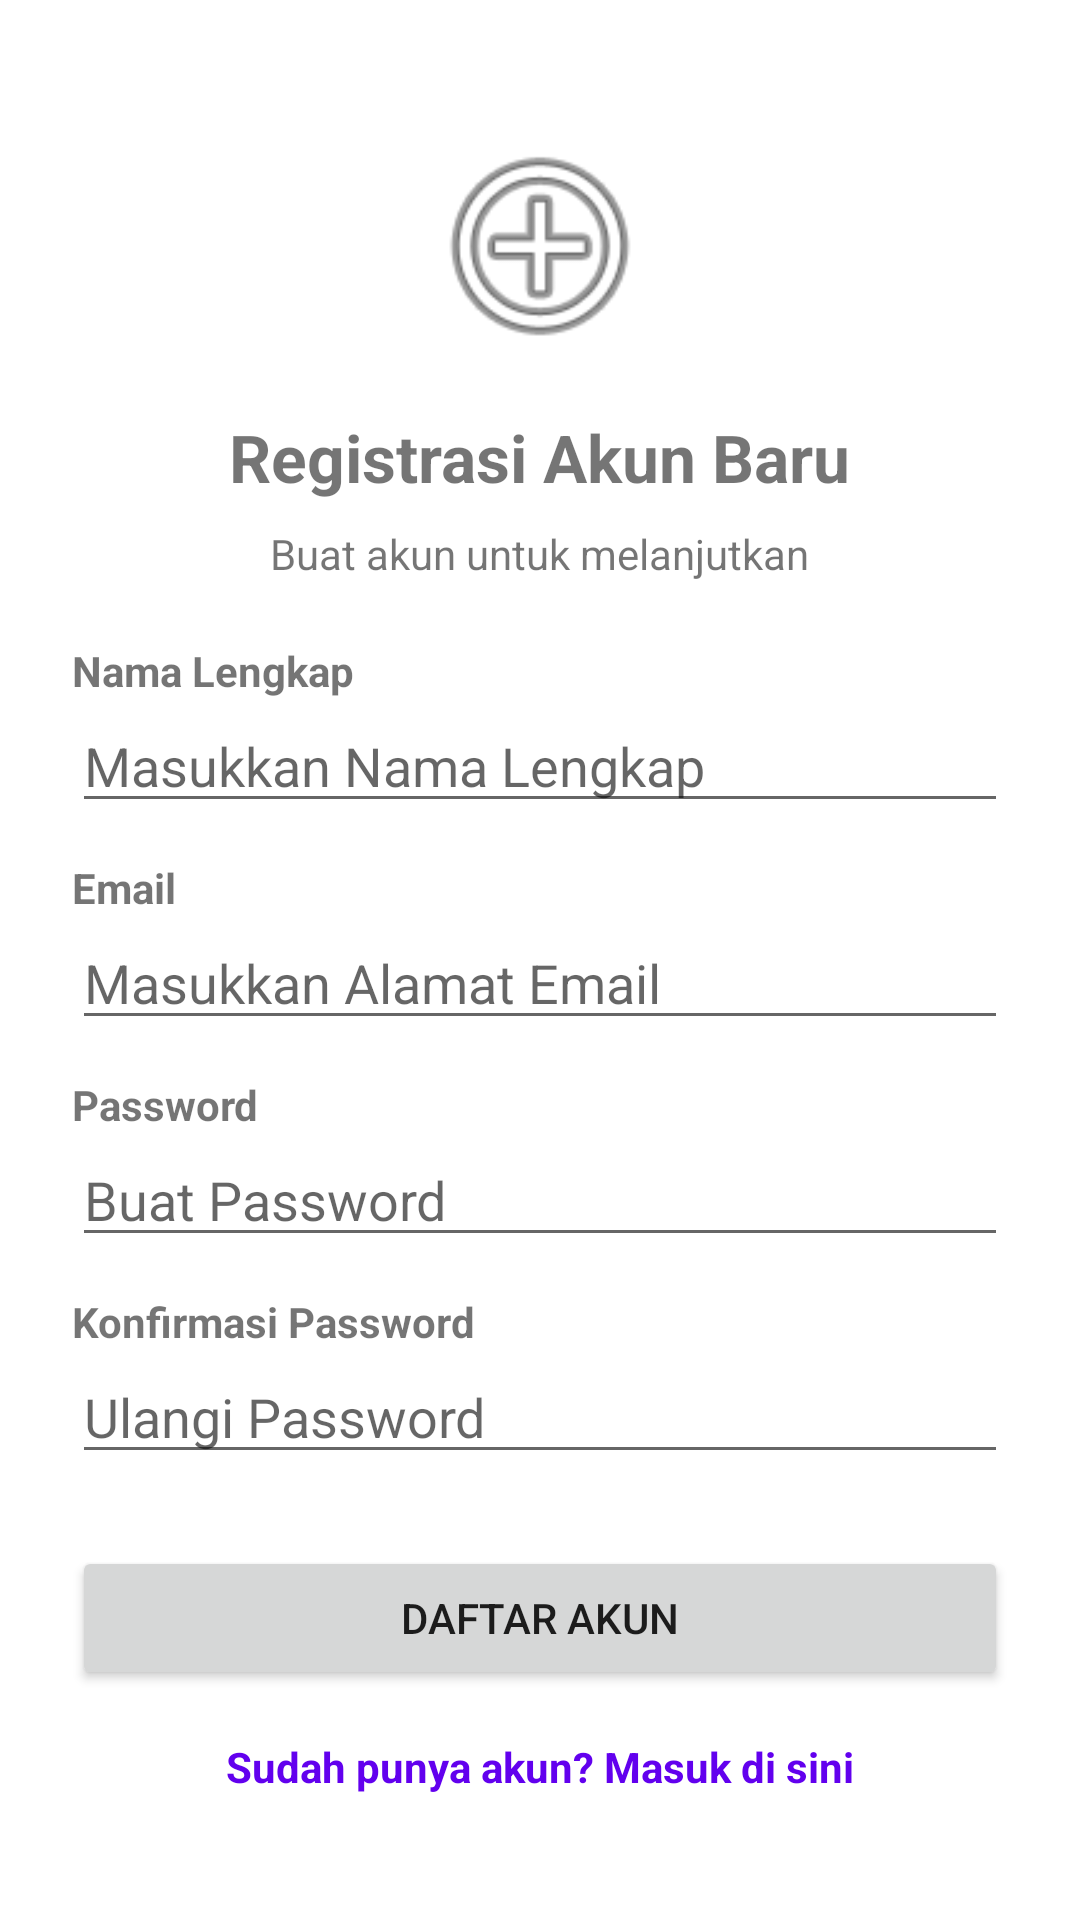

Icon bounding boxes for this 1080 × 1920 phone screenshot, format [left=x1, top=y1, right=x2, bottom=y2]:
Register Icon: [left=451, top=157, right=629, bottom=336]
